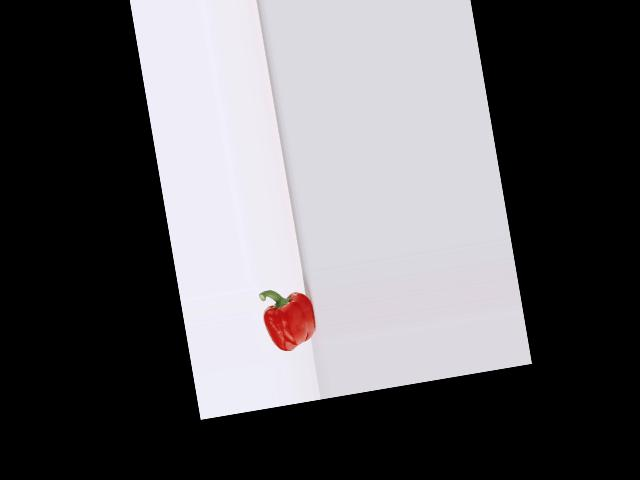bell_pepper: (255, 277, 321, 357)
